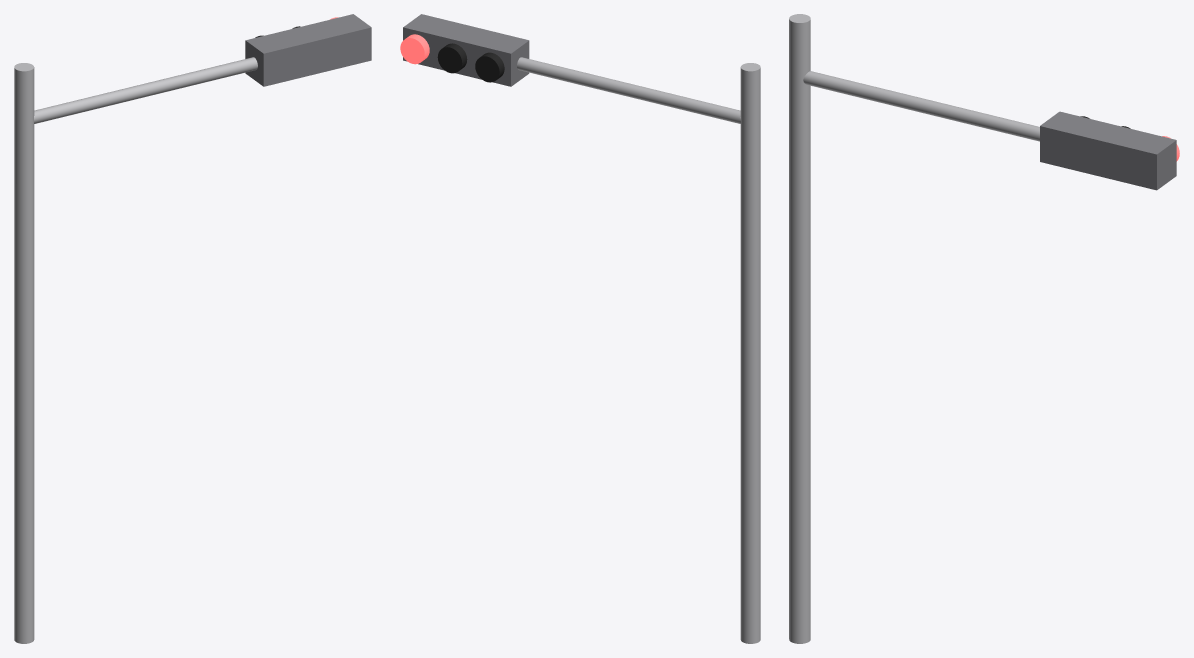
File: traffic_light_red.glb
3 renders of one model, left to right at view 1: azimuth 30°, elevation 25°; view 2: azimuth 150°, elevation 25°; view 3: azimuth 330°, elevation 25°, orthographic. The views are drawn at different scales.
Visible parts, largest first — view 1: Pole, Housing, Arm; view 2: Pole, Housing, Arm, Lens_Green, Lens_Red, Lens_Yellow; view 3: Pole, Housing, Arm.
Part boxes in pixels (<box>): Pole: <box>14,63,34,643</box>; Housing: <box>245,14,371,86</box>; Arm: <box>34,57,257,123</box>; Pole: <box>740,63,760,643</box>; Housing: <box>403,14,529,86</box>; Arm: <box>517,57,740,123</box>; Lens_Green: <box>475,52,504,82</box>; Lens_Red: <box>400,34,429,64</box>; Lens_Yellow: <box>437,43,467,73</box>; Pole: <box>789,14,810,643</box>; Housing: <box>1040,111,1176,190</box>; Arm: <box>803,71,1039,141</box>.
Bounding box in the file's own units: 2.41 × 3.8 × 0.28.
